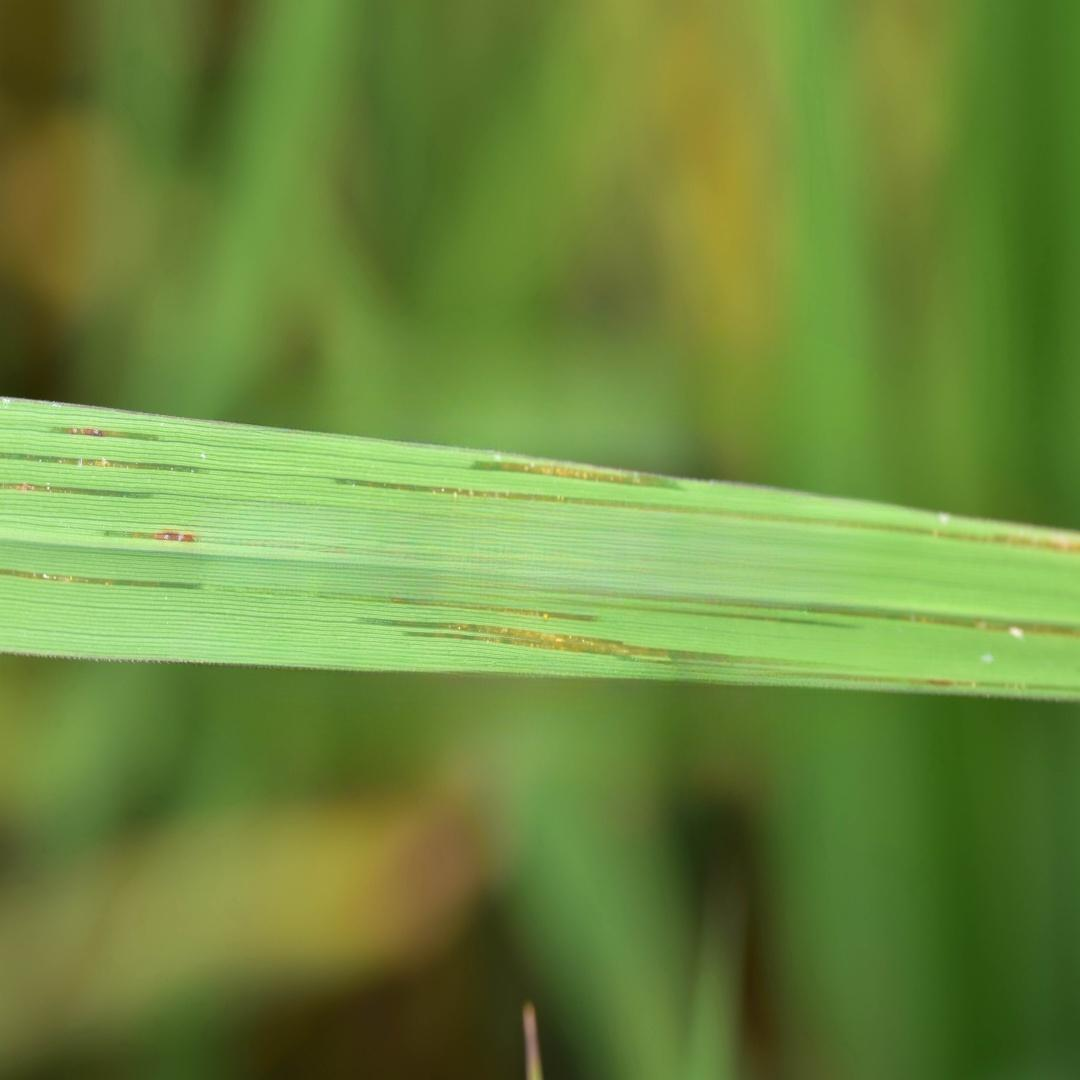BLS: (336, 478, 1078, 552), (351, 618, 1079, 690), (622, 594, 1077, 636), (470, 461, 692, 492), (317, 598, 601, 621), (0, 452, 209, 474), (0, 569, 203, 590), (704, 611, 865, 630), (1, 483, 155, 499), (52, 427, 160, 441), (106, 530, 199, 542)
